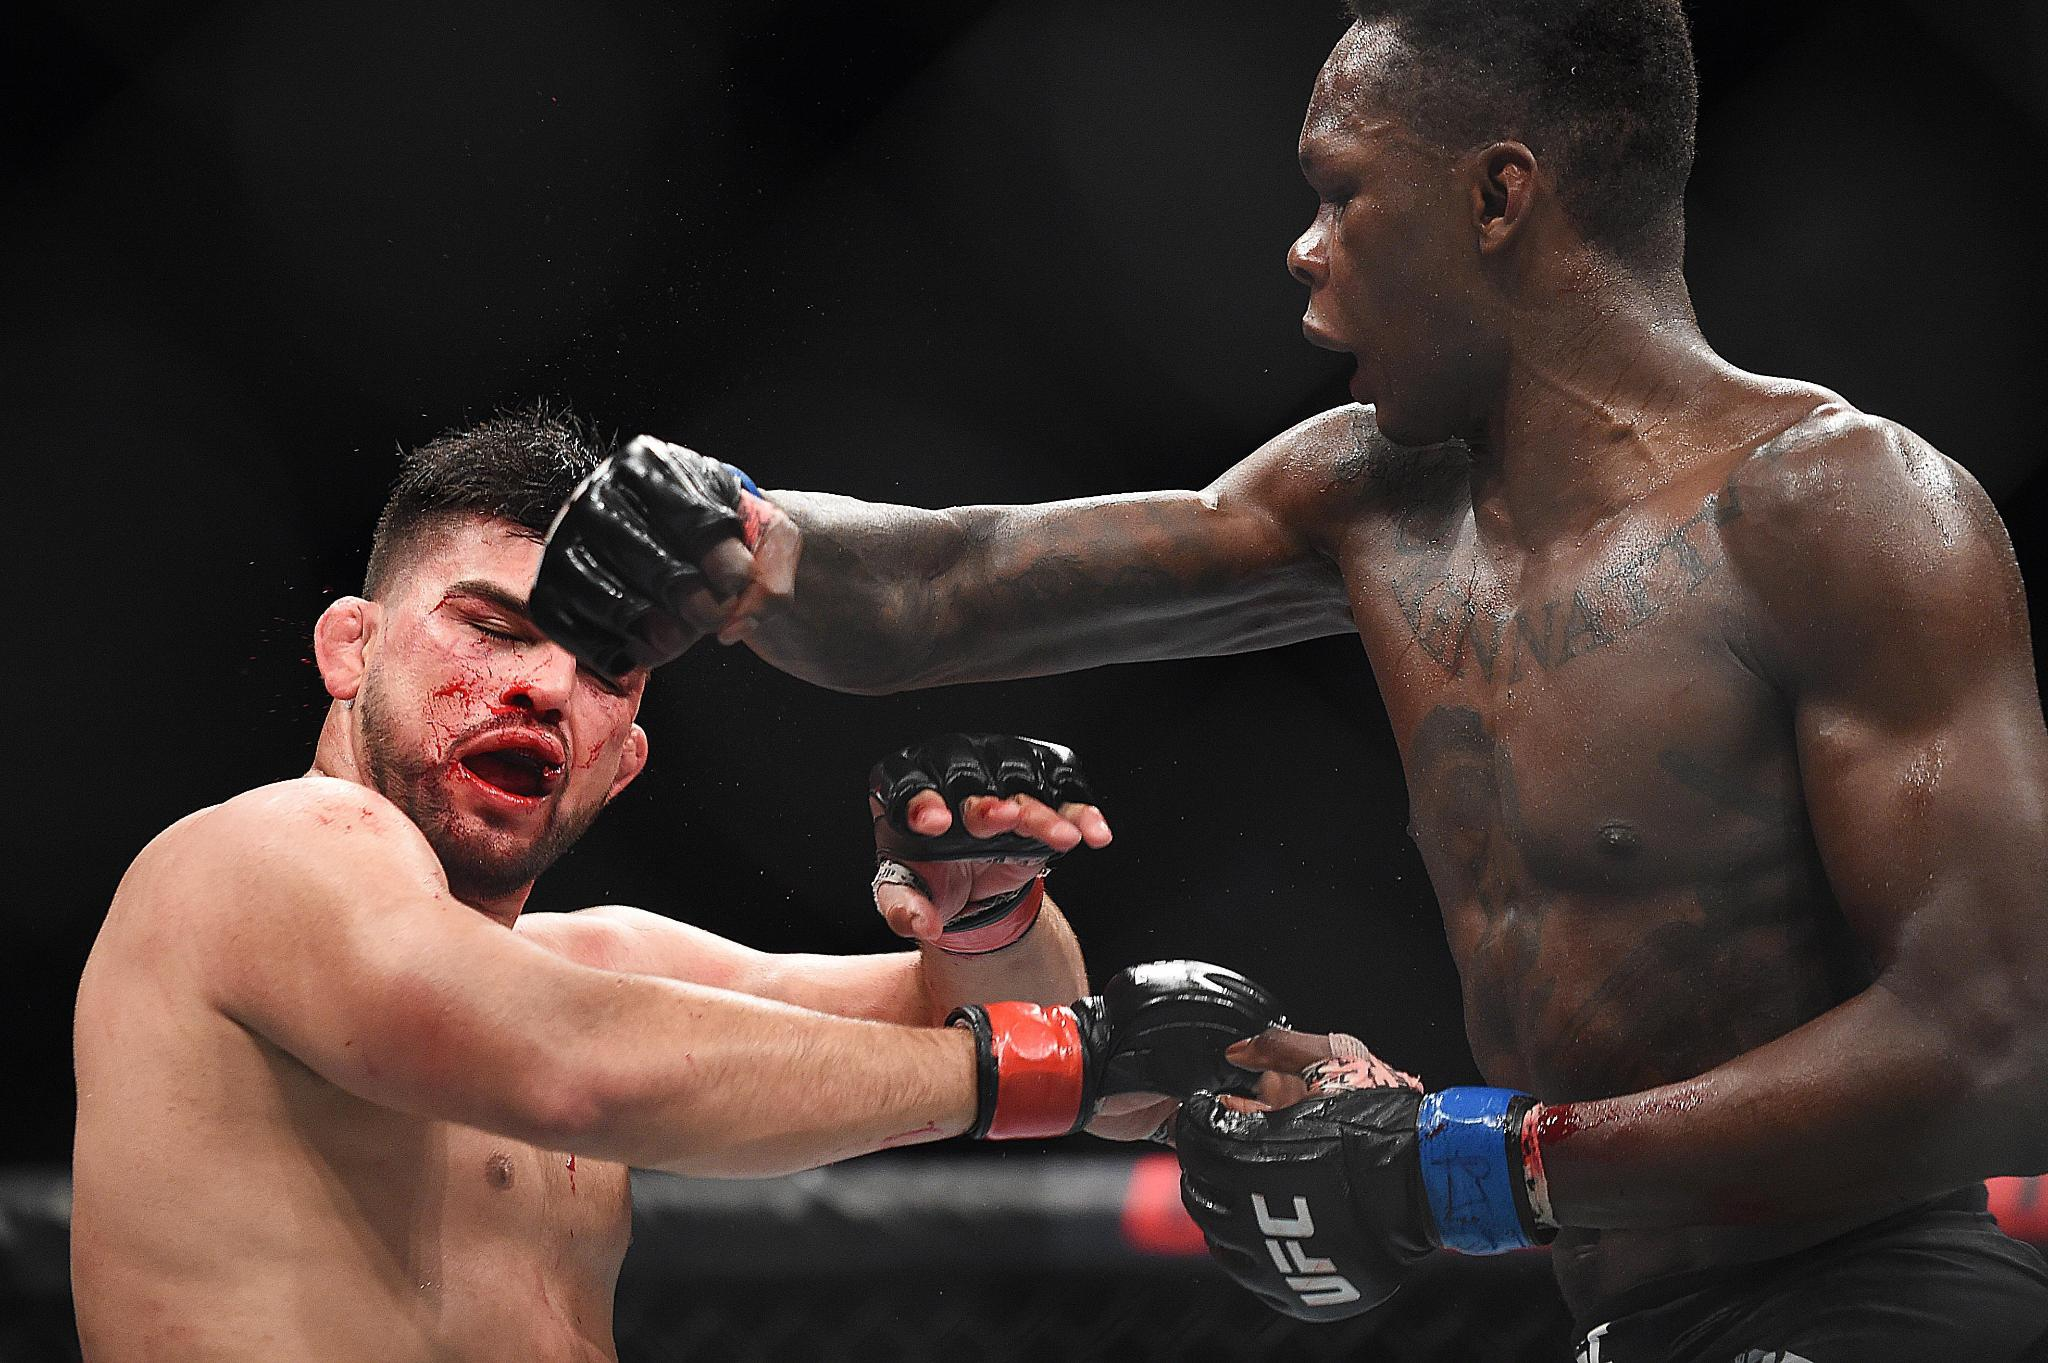Fire: (356, 589, 599, 904), (1523, 1106, 1604, 1177)
